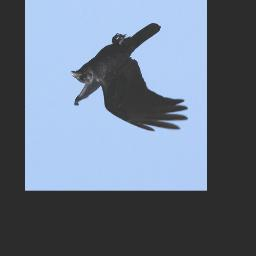Crow: (69, 22, 189, 133)
